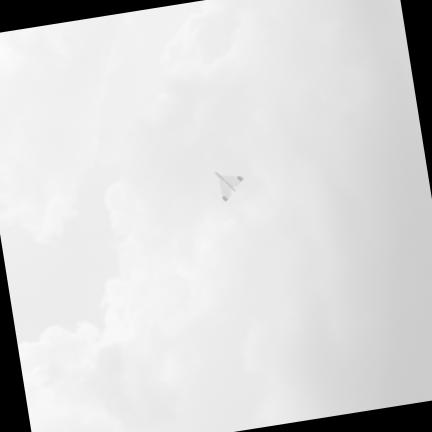Shahed: (214, 171, 244, 201)
